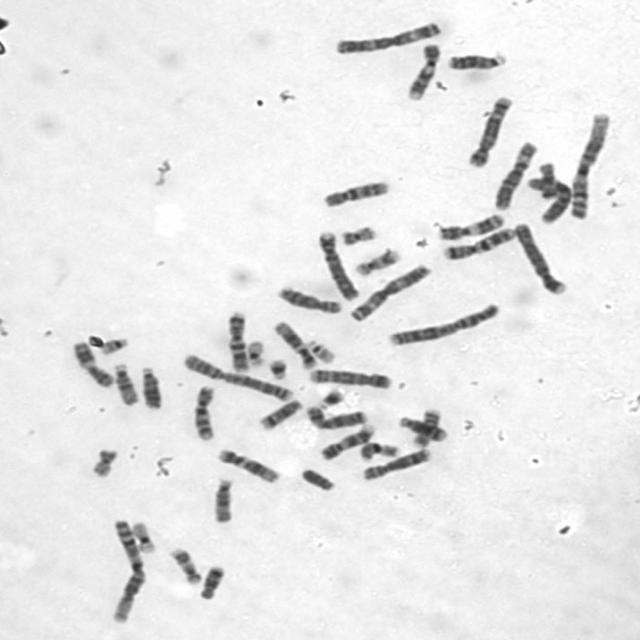A1: (570, 110, 612, 222), (108, 517, 148, 625)
A2: (181, 353, 295, 404), (385, 302, 504, 348)
A3: (347, 263, 432, 324), (334, 18, 444, 59)
B4: (512, 221, 570, 298), (317, 231, 361, 301)
B5: (466, 96, 512, 168), (307, 368, 394, 390)
C10: (320, 182, 391, 210), (192, 385, 216, 442)
C11: (72, 339, 116, 388), (439, 214, 505, 242)
C12: (213, 446, 280, 484), (274, 320, 318, 370)
C6: (492, 139, 538, 212), (525, 176, 572, 225)
C7: (442, 227, 516, 261), (224, 310, 250, 373)
C8: (362, 448, 434, 483), (276, 286, 342, 317)
C9: (403, 42, 443, 105), (319, 422, 378, 462)
D13: (444, 53, 512, 71), (140, 365, 164, 410)
D14: (258, 398, 306, 431), (398, 414, 450, 442)
D15: (112, 362, 140, 407), (211, 478, 236, 524)
E16: (412, 408, 444, 449), (358, 442, 402, 461)
E17: (350, 247, 400, 277), (167, 545, 201, 585)
E18: (197, 566, 228, 601), (537, 161, 558, 199)
F19: (130, 521, 156, 555), (246, 339, 265, 368)
F20: (90, 448, 120, 478), (340, 225, 378, 248)
G21: (317, 388, 348, 411), (266, 358, 288, 380)
G22: (303, 338, 338, 365), (100, 336, 132, 355)
X: (306, 405, 369, 431)
Y: (301, 467, 336, 492)
